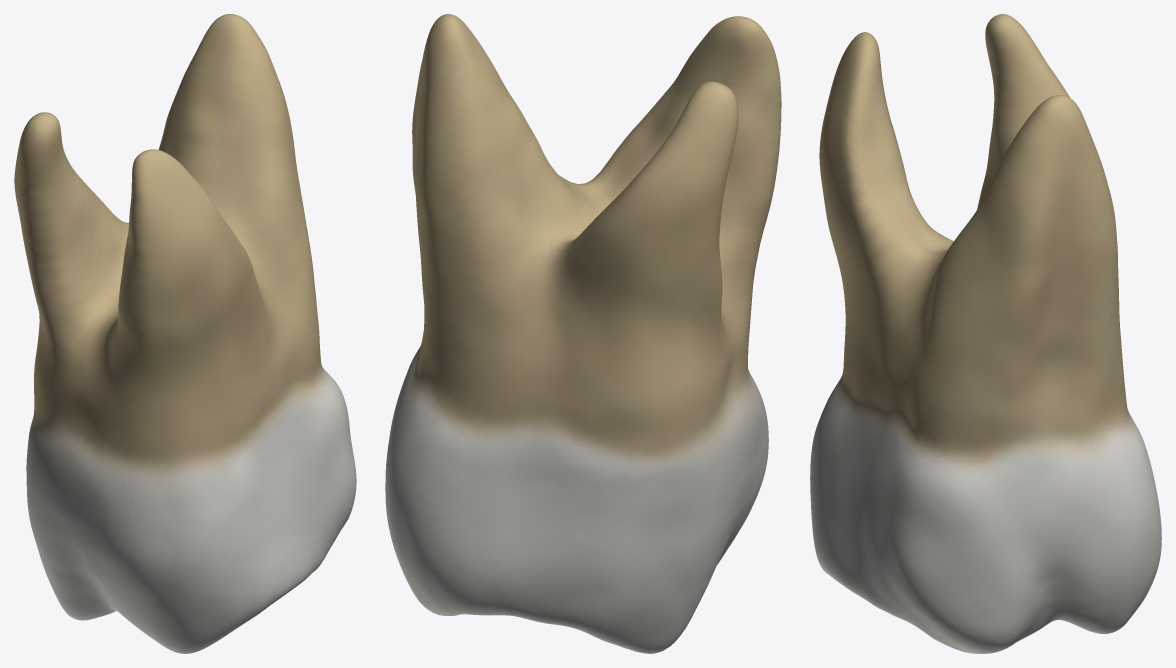
3 views of the same model, side by side, from view 1: azimuth 30°, elevation 25°; view 2: azimuth 150°, elevation 25°; view 3: azimuth 270°, elevation 25° (orthographic). The views are drawn at different scales.
Parts seen in each view (by area): view 1: diente-16; view 2: diente-16; view 3: diente-16.
Boxes of the visible parts, box(x1,y1,x2,y2) form: diente-16: box(14, 14, 356, 653); diente-16: box(385, 14, 781, 653); diente-16: box(810, 14, 1161, 653).
Bounding box in the file's own units: 0.0119 × 0.0205 × 0.0114.
1 material, 1 textured.
